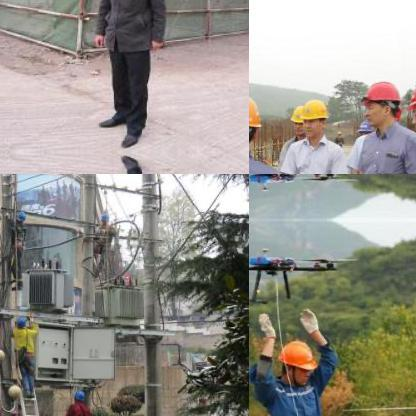Helmet: (362, 76, 400, 127), (277, 338, 315, 384), (298, 95, 328, 138), (249, 91, 264, 156), (287, 105, 305, 138), (14, 315, 28, 331), (69, 387, 83, 403), (14, 206, 26, 224), (96, 210, 108, 226)
